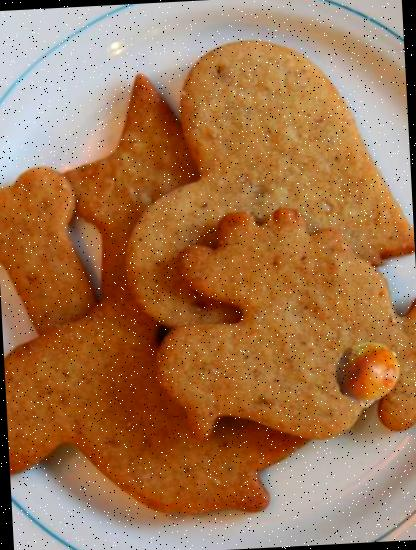Onion: (332, 336, 402, 405)
